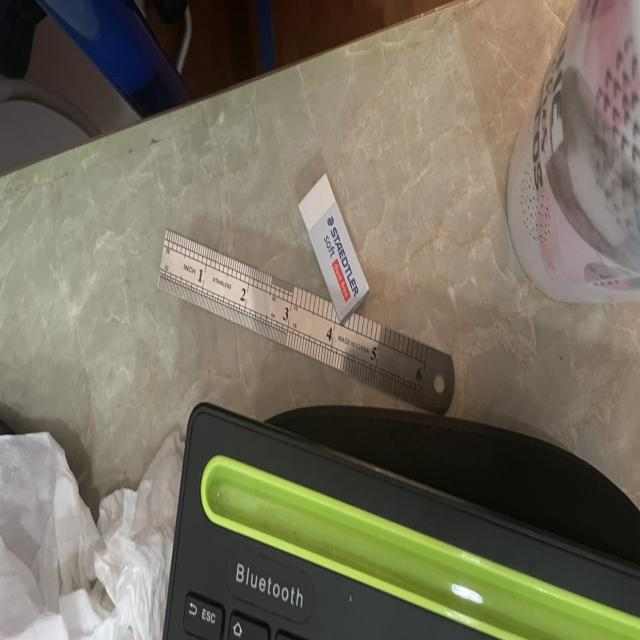eraser: (299, 174, 369, 323)
ruler: (158, 229, 454, 413)
